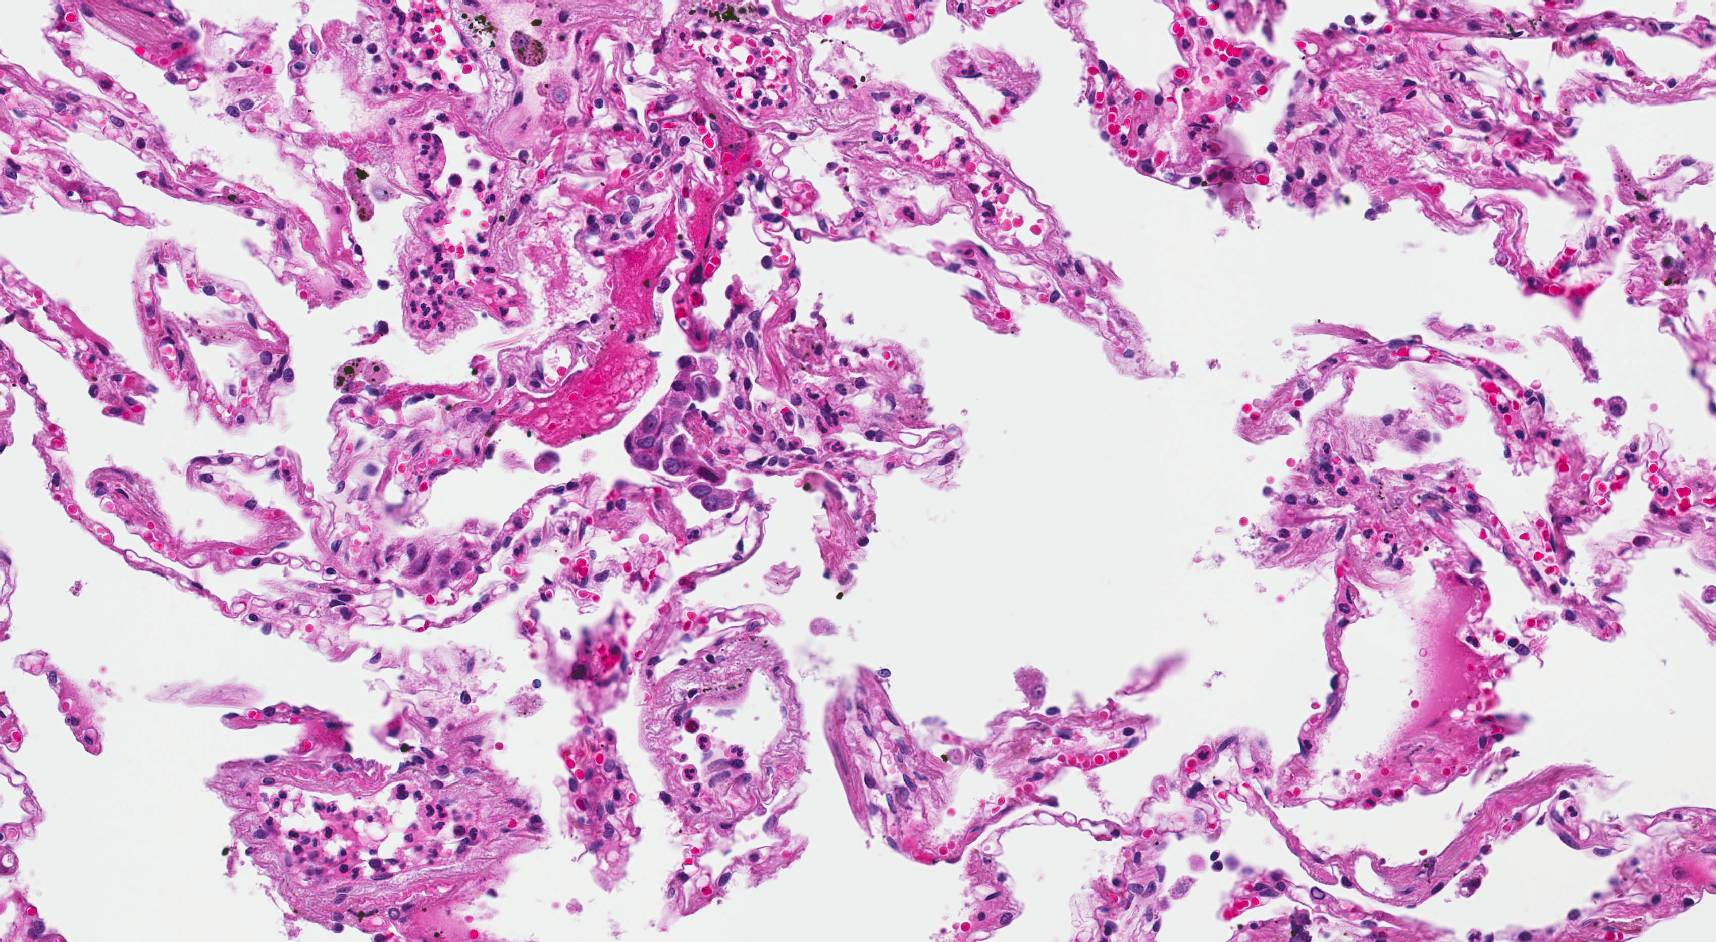STAS: (621, 354, 736, 512)
